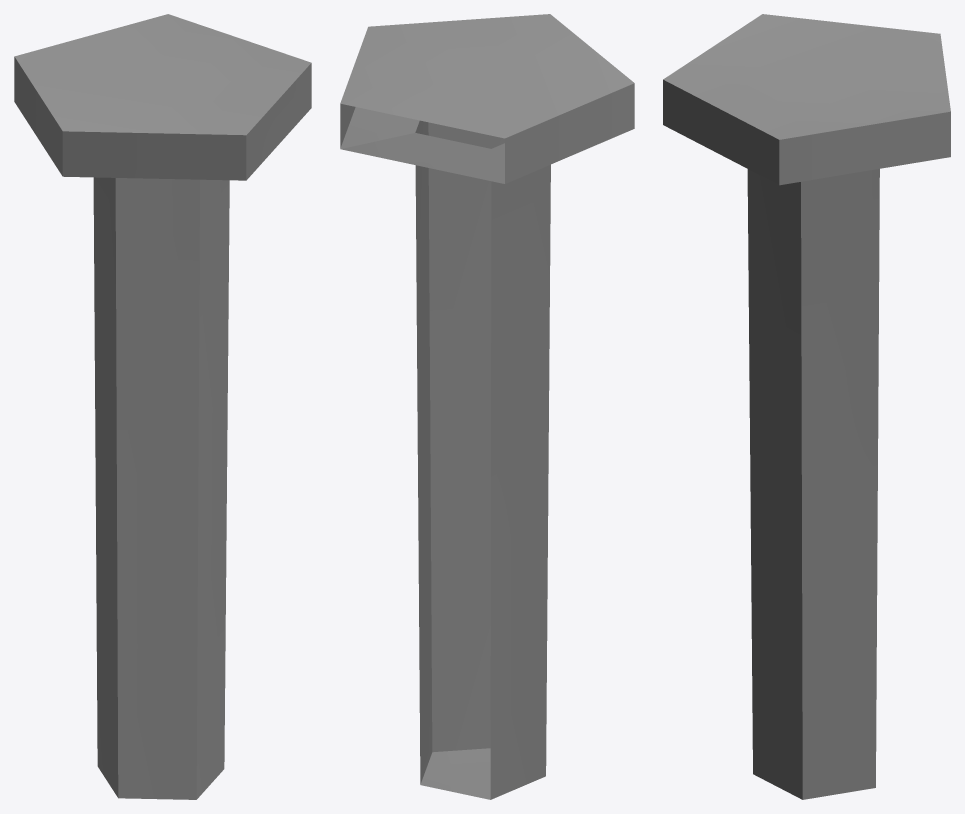
Rendered from Nail.fbx.
3 renders of one model, left to right at view 1: azimuth 30°, elevation 25°; view 2: azimuth 150°, elevation 25°; view 3: azimuth 270°, elevation 25°, orthographic.
Visible parts, largest first — view 1: Nail; view 2: Nail; view 3: Nail.
Part boxes in pixels (x1,y1,x2,y2): Nail: [14, 14, 311, 799]; Nail: [340, 14, 634, 799]; Nail: [663, 14, 950, 799].
Bounding box in the file's own units: 16.69 × 43.19 × 16.16.
